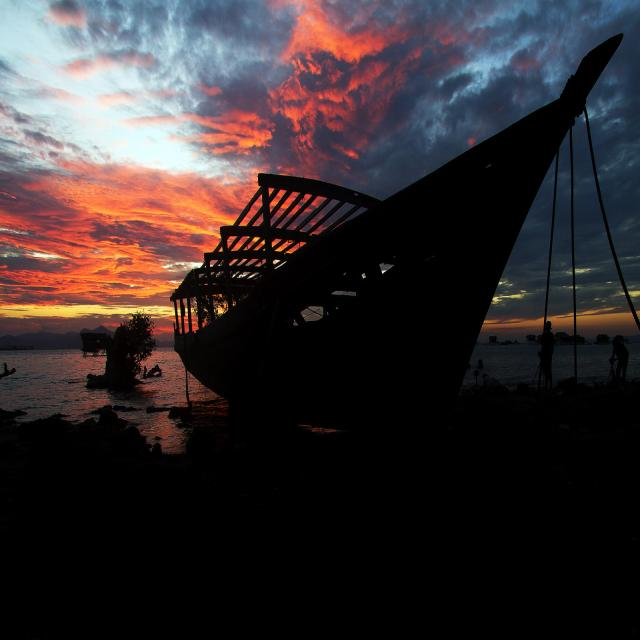Boat: (165, 121, 631, 464)
